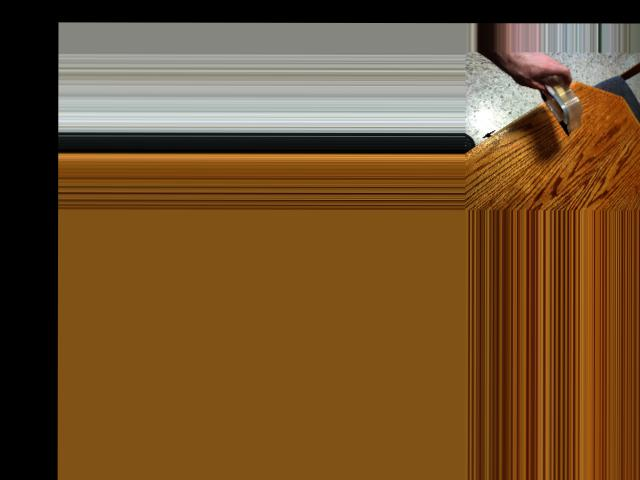cheese: (516, 61, 598, 122)
